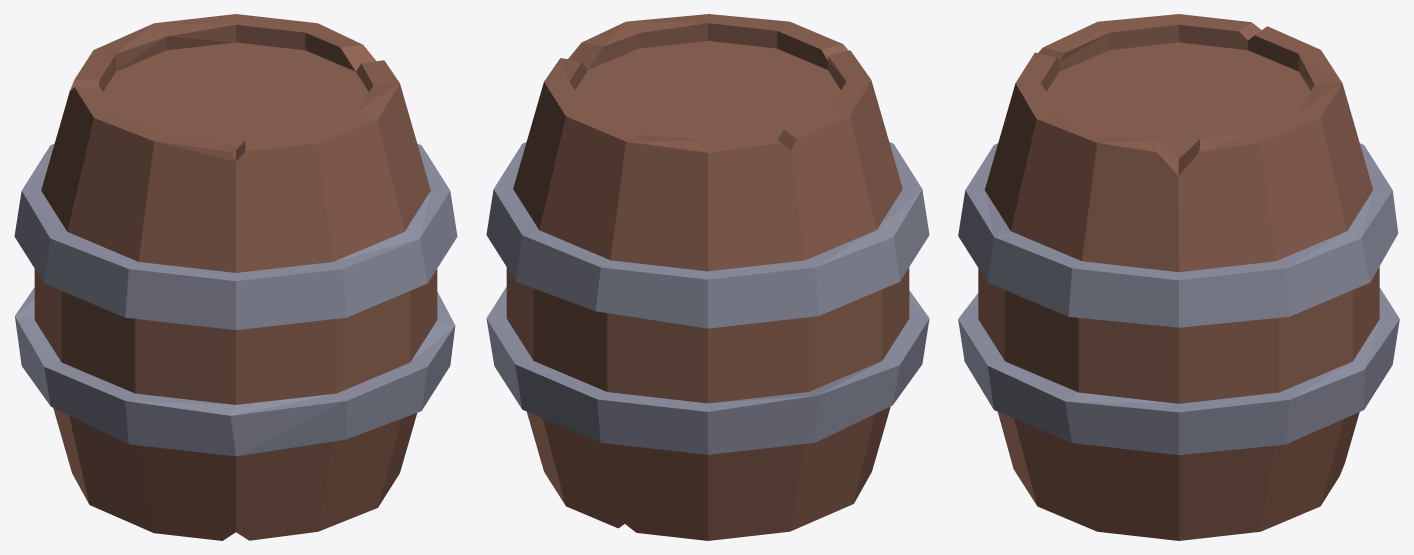
Rendered from barrel.fbx.
3 views of the same model, side by side, from view 1: azimuth 30°, elevation 25°; view 2: azimuth 150°, elevation 25°; view 3: azimuth 270°, elevation 25° (orthographic).
Visible parts, largest first — view 1: barrel; view 2: barrel; view 3: barrel.
Boxes of the visible parts, box(x1,y1,x2,y2) form: barrel: box(14, 14, 457, 540); barrel: box(486, 14, 929, 540); barrel: box(958, 14, 1399, 540).
Bounding box in the file's own units: 270 × 264 × 270.
